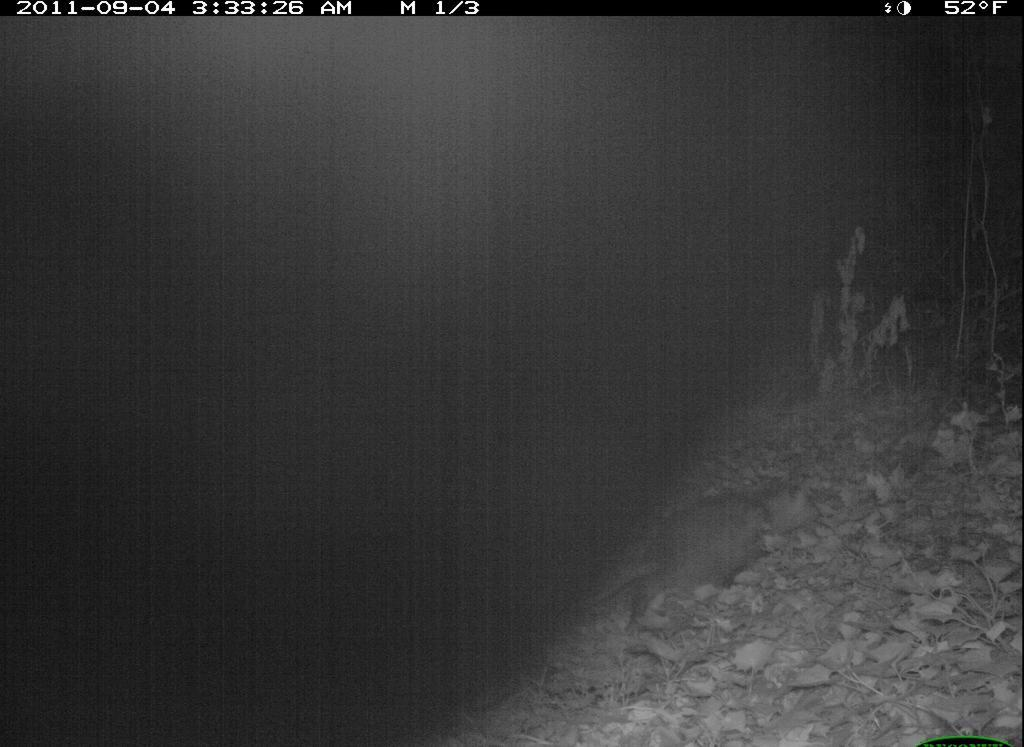opossum: (570, 477, 825, 628)
